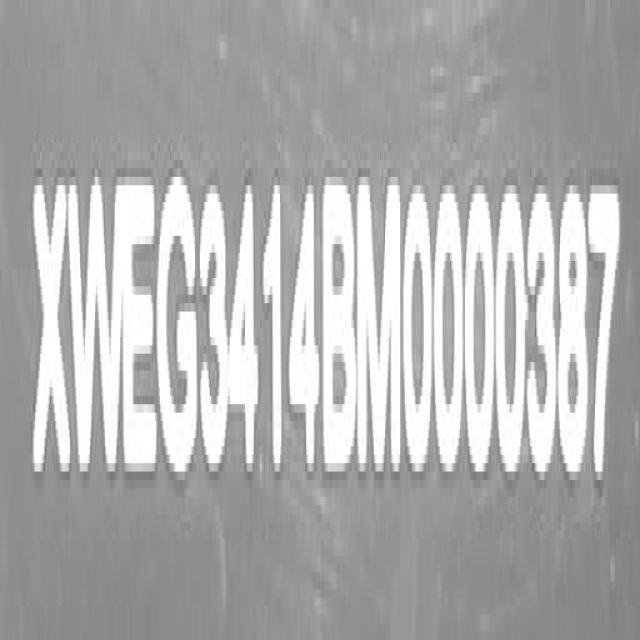0: (462, 172, 496, 471), (432, 178, 465, 477), (402, 169, 434, 474), (495, 175, 526, 474)
1: (263, 172, 284, 471)
3: (200, 159, 228, 496), (527, 178, 557, 483)
4: (228, 162, 259, 468), (290, 178, 320, 477)
7: (588, 180, 620, 490)
8: (557, 184, 589, 483)
B: (324, 184, 356, 480)
E: (120, 156, 158, 474)
G: (155, 165, 199, 487)
M: (357, 178, 401, 483)
W: (66, 168, 121, 481)
X: (32, 168, 72, 484)
